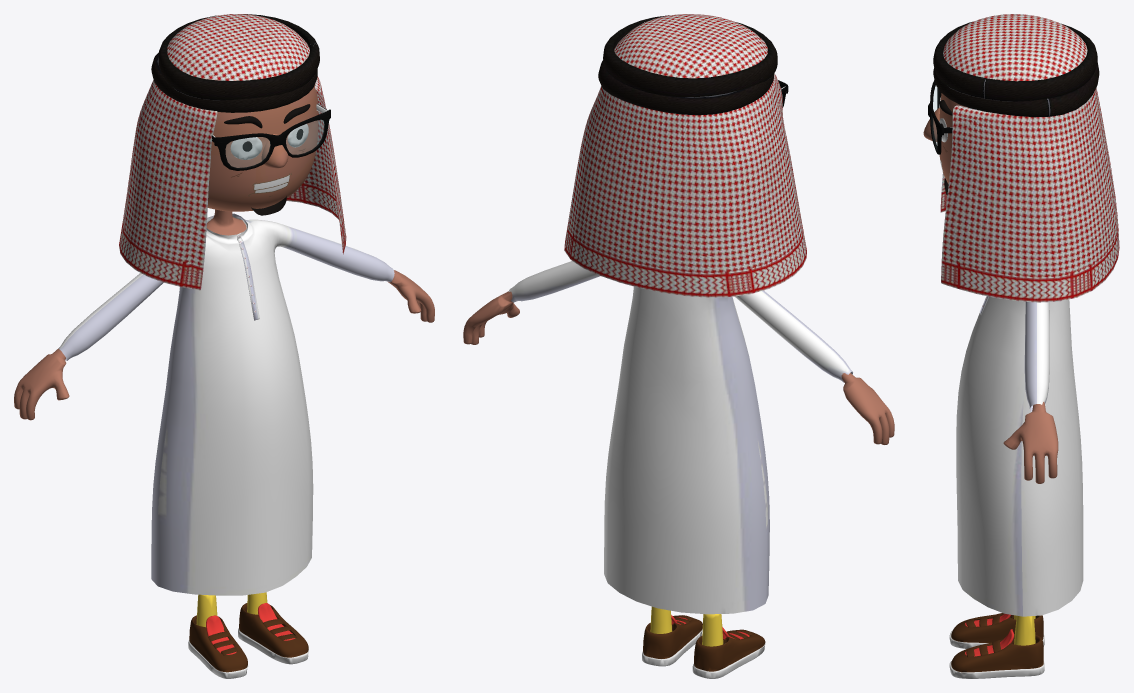
The model's file is Vineeth.fbx.
3 renders of one model, left to right at view 1: azimuth 30°, elevation 25°; view 2: azimuth 150°, elevation 25°; view 3: azimuth 270°, elevation 25°, orthographic. The views are drawn at different scales.
Parts seen in each view (by area): view 1: ActualShoes_Cube.001; view 2: ActualShoes_Cube.001; view 3: ActualShoes_Cube.001.
Boxes of the visible parts, x1,y1,x2,y2 form: ActualShoes_Cube.001: (14, 14, 434, 678); ActualShoes_Cube.001: (463, 14, 894, 678); ActualShoes_Cube.001: (923, 14, 1119, 678).
Bounding box in the file's own units: 318 × 456 × 130.
11 materials, 2 textured.
